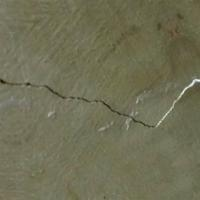crack: (0, 50, 199, 150)
